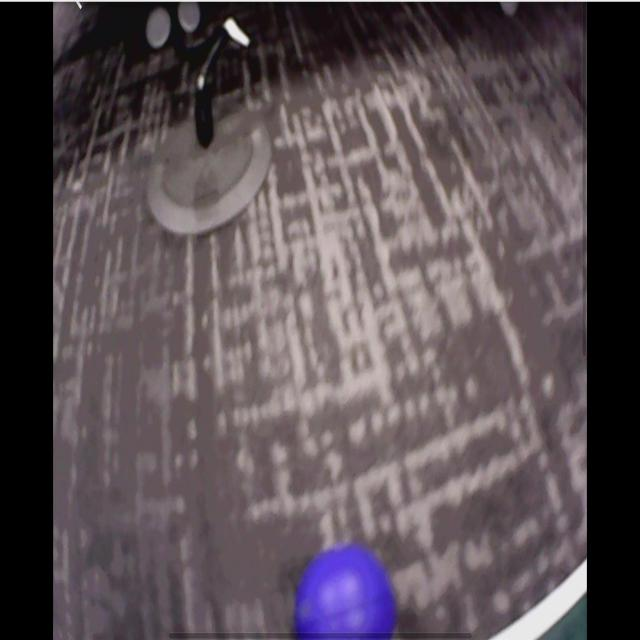ball: (295, 547, 396, 640)
